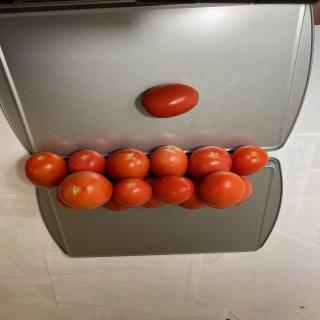Chilli: (24, 145, 269, 211)
Tomato: (58, 171, 113, 209), (141, 83, 199, 118), (199, 171, 246, 209), (25, 152, 68, 188), (188, 146, 232, 180), (106, 148, 150, 181), (149, 146, 188, 178), (153, 175, 195, 204), (112, 178, 152, 208), (232, 145, 268, 176), (67, 149, 106, 175), (235, 176, 253, 206)
